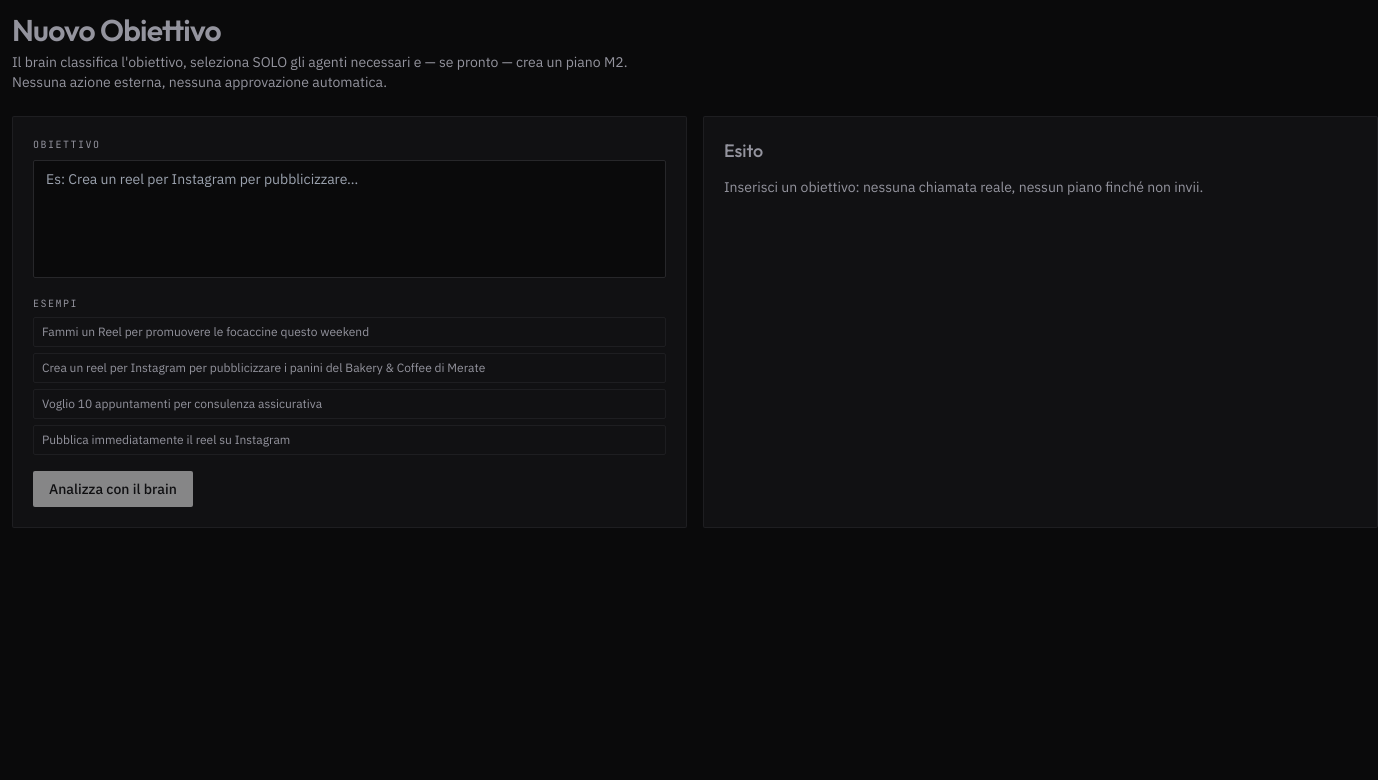
Scenario: NewGoal › gestisce campi opzionali assenti senza errori (nessun rischio, nessun budget, nessun task)
Type "Prepara una strategia" into the text box with test id "goal-input" at coordinates (350, 219), box [33,160,666,278]
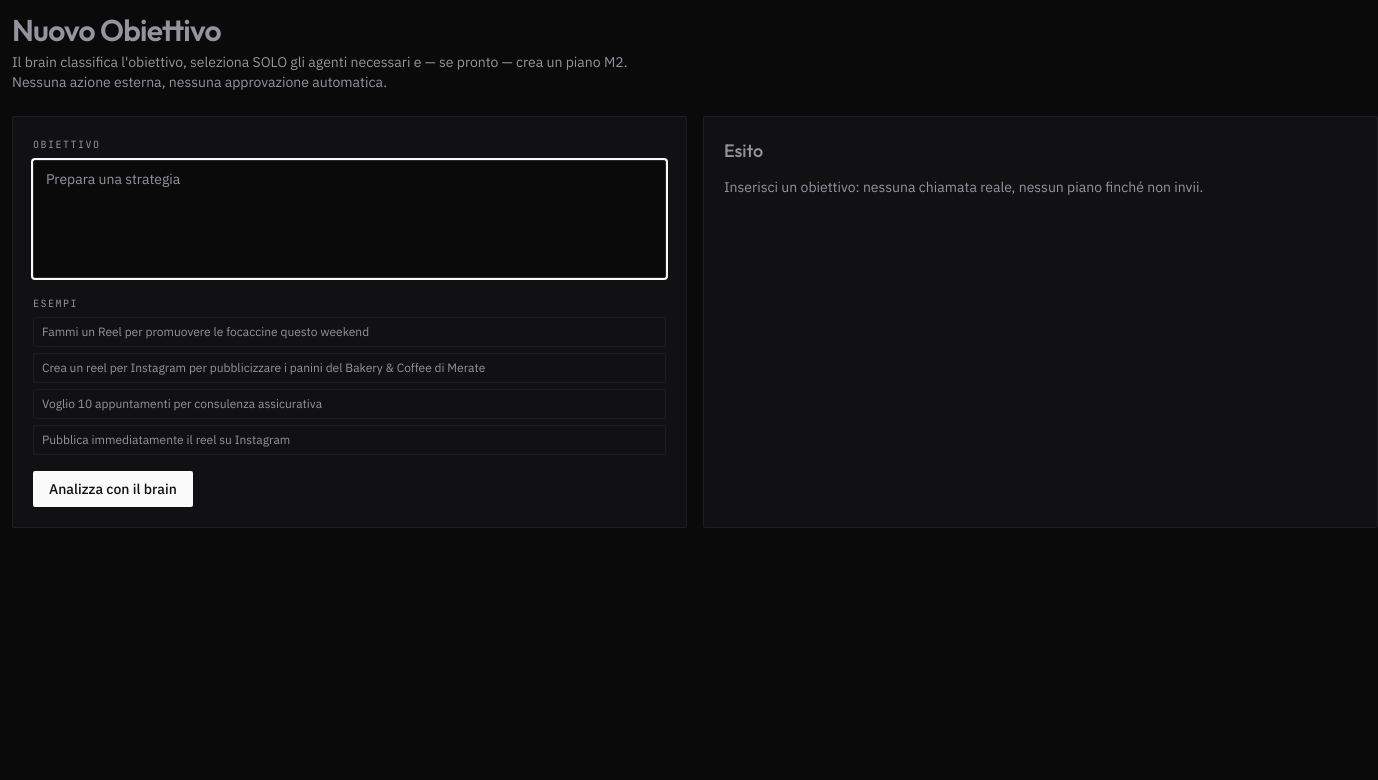
Click the button with test id "goal-classify" at coordinates (113, 489), box [33,471,193,507]
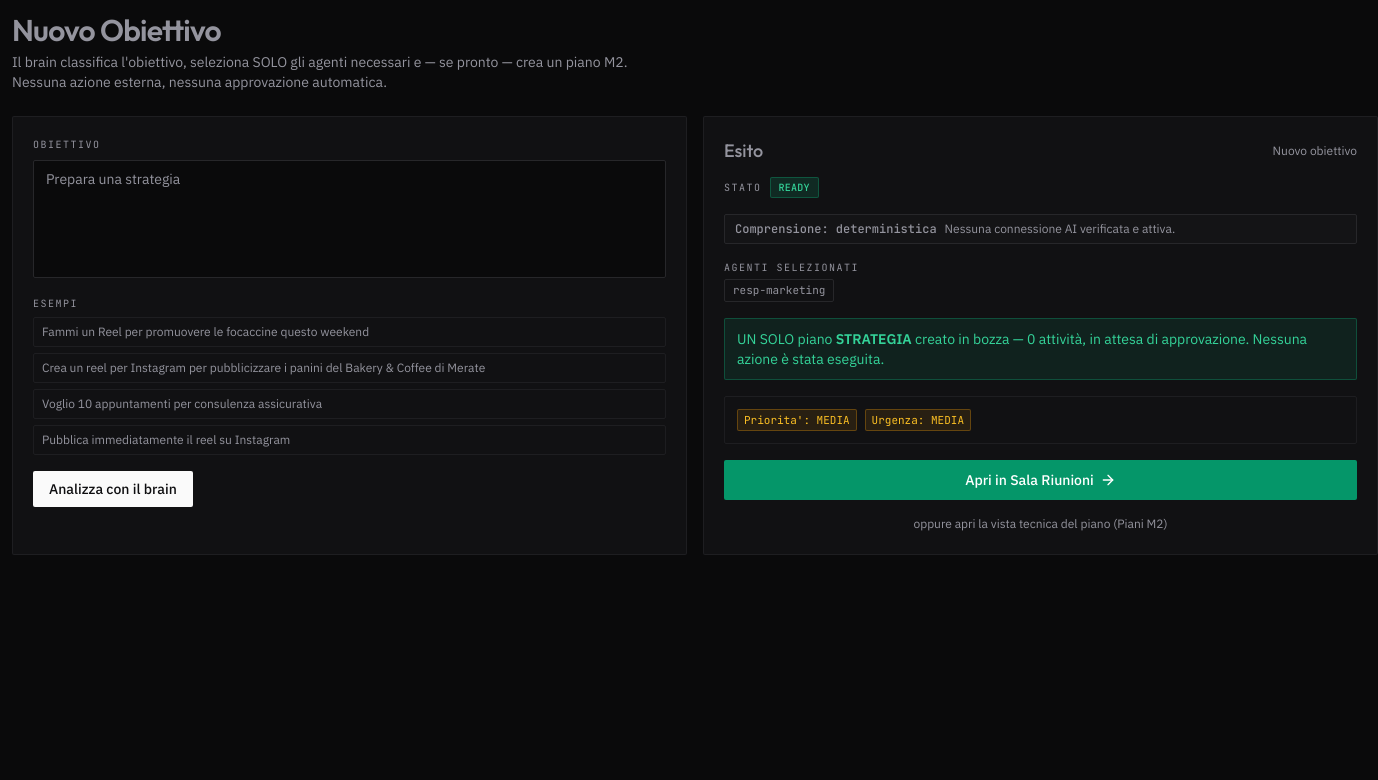
Expected: the text with test id "goal-status" reads "READY", [778,181,810,194]
Expected: the element with test id "plan-insights" is shown, [724,396,1357,444]
